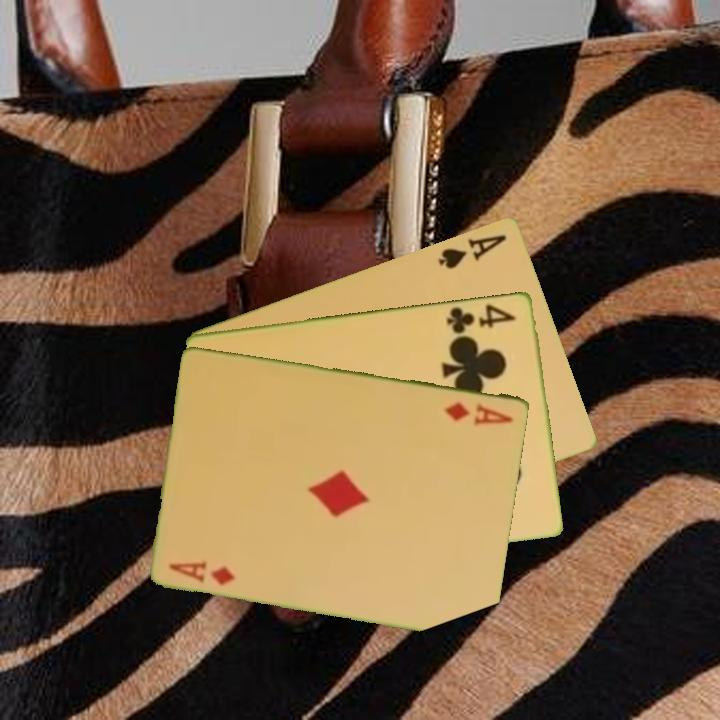4c: (444, 300, 520, 336)
Ad: (440, 398, 516, 428), (166, 558, 239, 588)
As: (434, 230, 510, 271)
